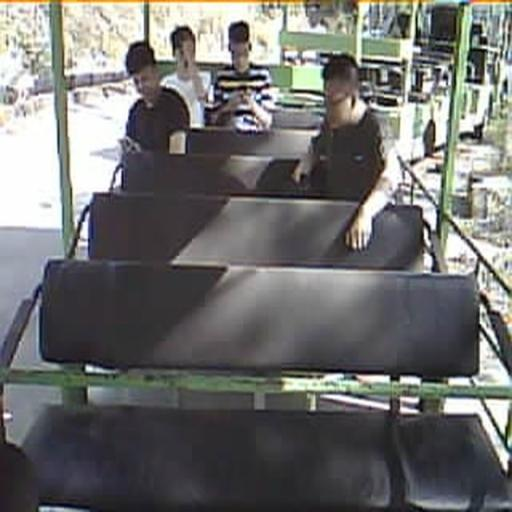persona: (292, 52, 401, 250), (122, 40, 190, 153), (210, 20, 276, 132), (159, 24, 210, 127)
